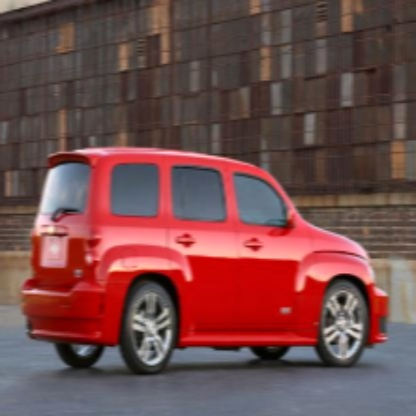Vehicle: (19, 144, 390, 380)
